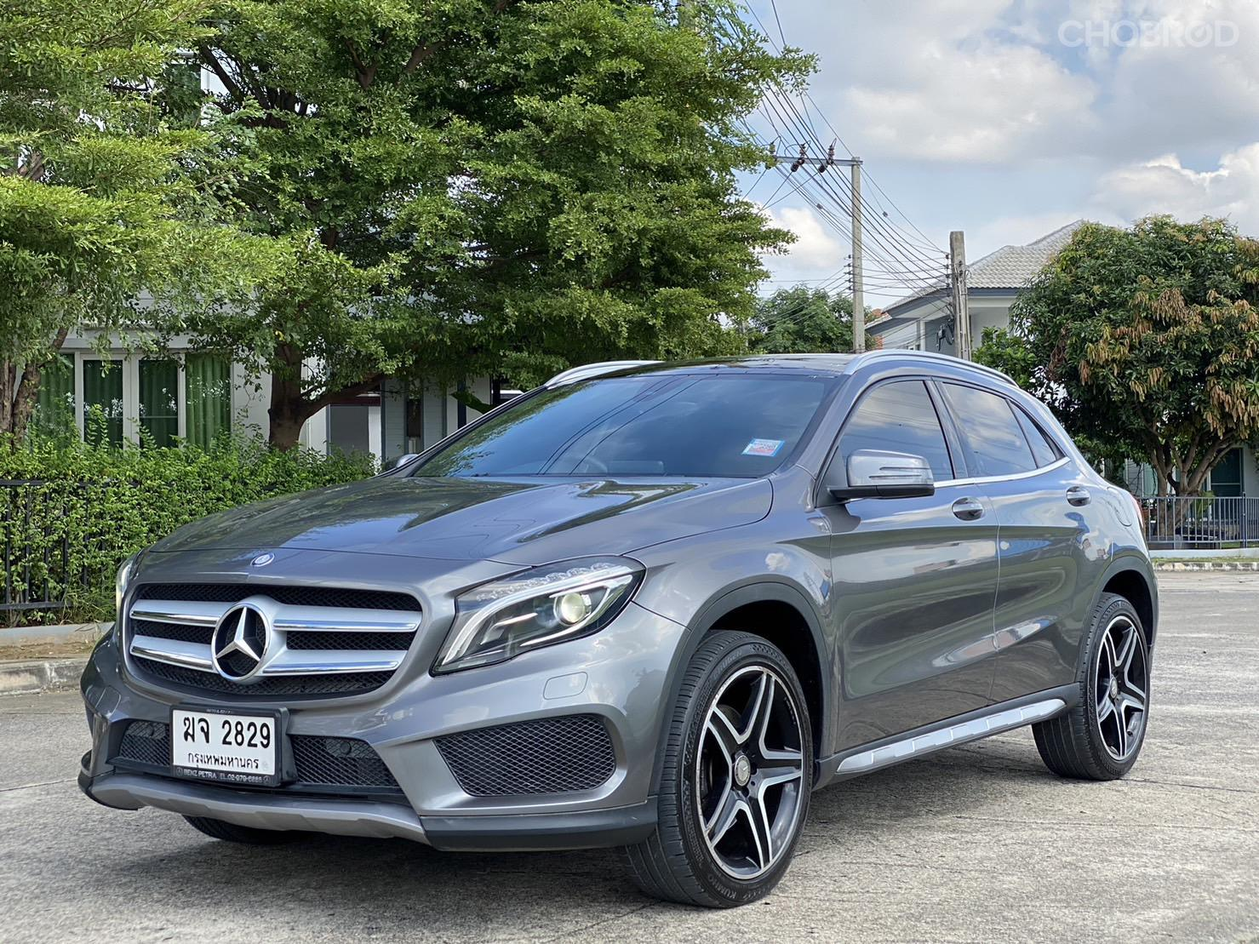license-plate: (167, 701, 286, 785)
